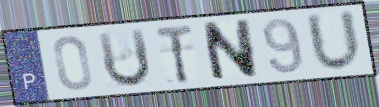0: (52, 34, 95, 93)
9: (260, 17, 306, 76)
N: (198, 17, 260, 84)
T: (153, 22, 195, 86)
U: (302, 8, 365, 74), (95, 26, 154, 90)
